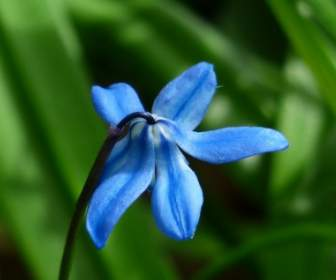bluebell: (66, 60, 295, 252)
